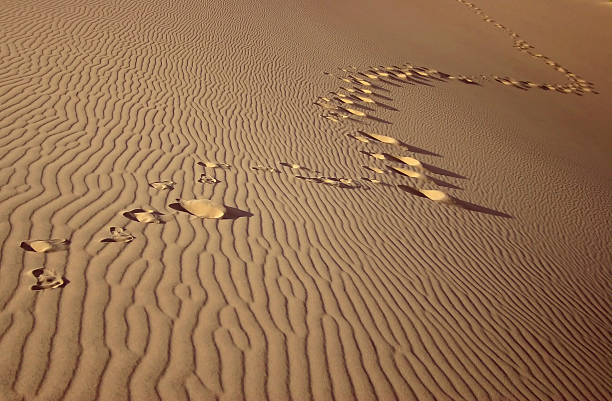animal_foot_print: (315, 63, 489, 204), (457, 0, 596, 94), (169, 199, 252, 218), (170, 199, 226, 218), (30, 268, 68, 290), (295, 176, 362, 188), (20, 238, 70, 252), (123, 208, 164, 223), (101, 226, 134, 242), (279, 162, 320, 173), (149, 180, 175, 189), (250, 164, 279, 172), (197, 161, 230, 168), (346, 133, 370, 142), (197, 174, 219, 183), (362, 165, 385, 173)
